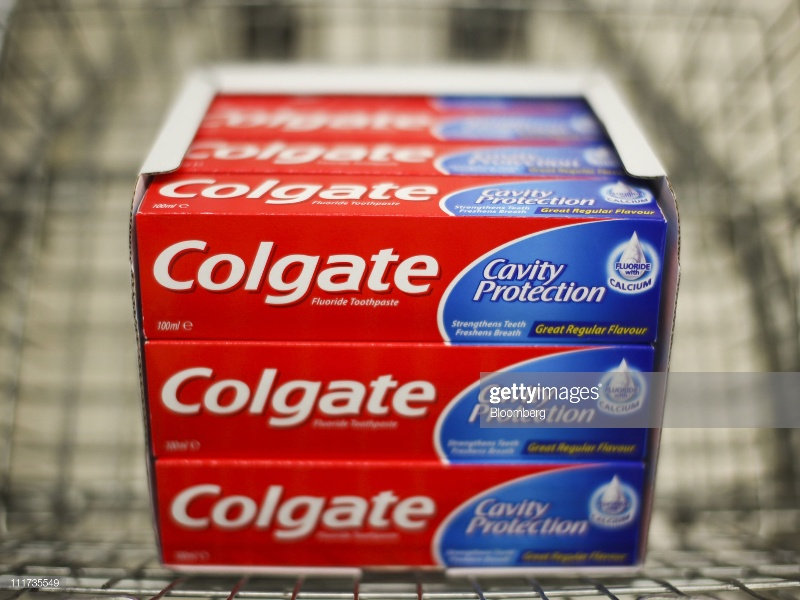colgate-small: (141, 177, 661, 340), (153, 347, 663, 454), (154, 457, 639, 569)
